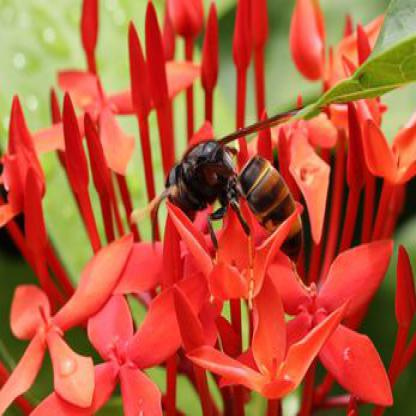Asian Hornet: (134, 117, 318, 262)
